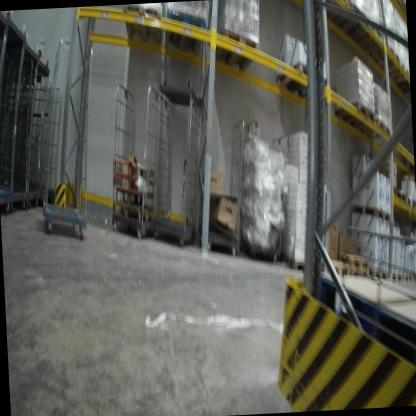pallet: (161, 7, 211, 62), (271, 55, 324, 106), (210, 23, 264, 71), (120, 3, 165, 49), (346, 14, 383, 53), (334, 97, 376, 129), (108, 165, 147, 195), (112, 195, 152, 224), (370, 40, 402, 75), (110, 153, 148, 182), (351, 199, 391, 224), (356, 119, 393, 146), (279, 246, 314, 271), (337, 245, 368, 272), (110, 180, 142, 206), (388, 63, 409, 97), (326, 254, 349, 280), (390, 186, 410, 208), (347, 262, 371, 280), (368, 267, 389, 280), (388, 269, 404, 283), (407, 194, 416, 210), (402, 271, 414, 282), (414, 272, 416, 282)
